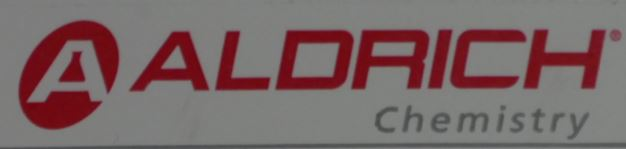SigmaAldrich: (15, 15, 622, 142)
